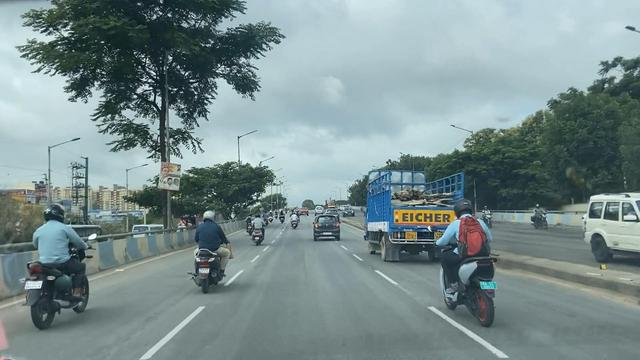HMV: (351, 170, 475, 254)
LMV: (22, 207, 93, 325), (446, 210, 497, 322), (195, 211, 236, 288), (318, 213, 339, 242), (248, 217, 272, 241)
